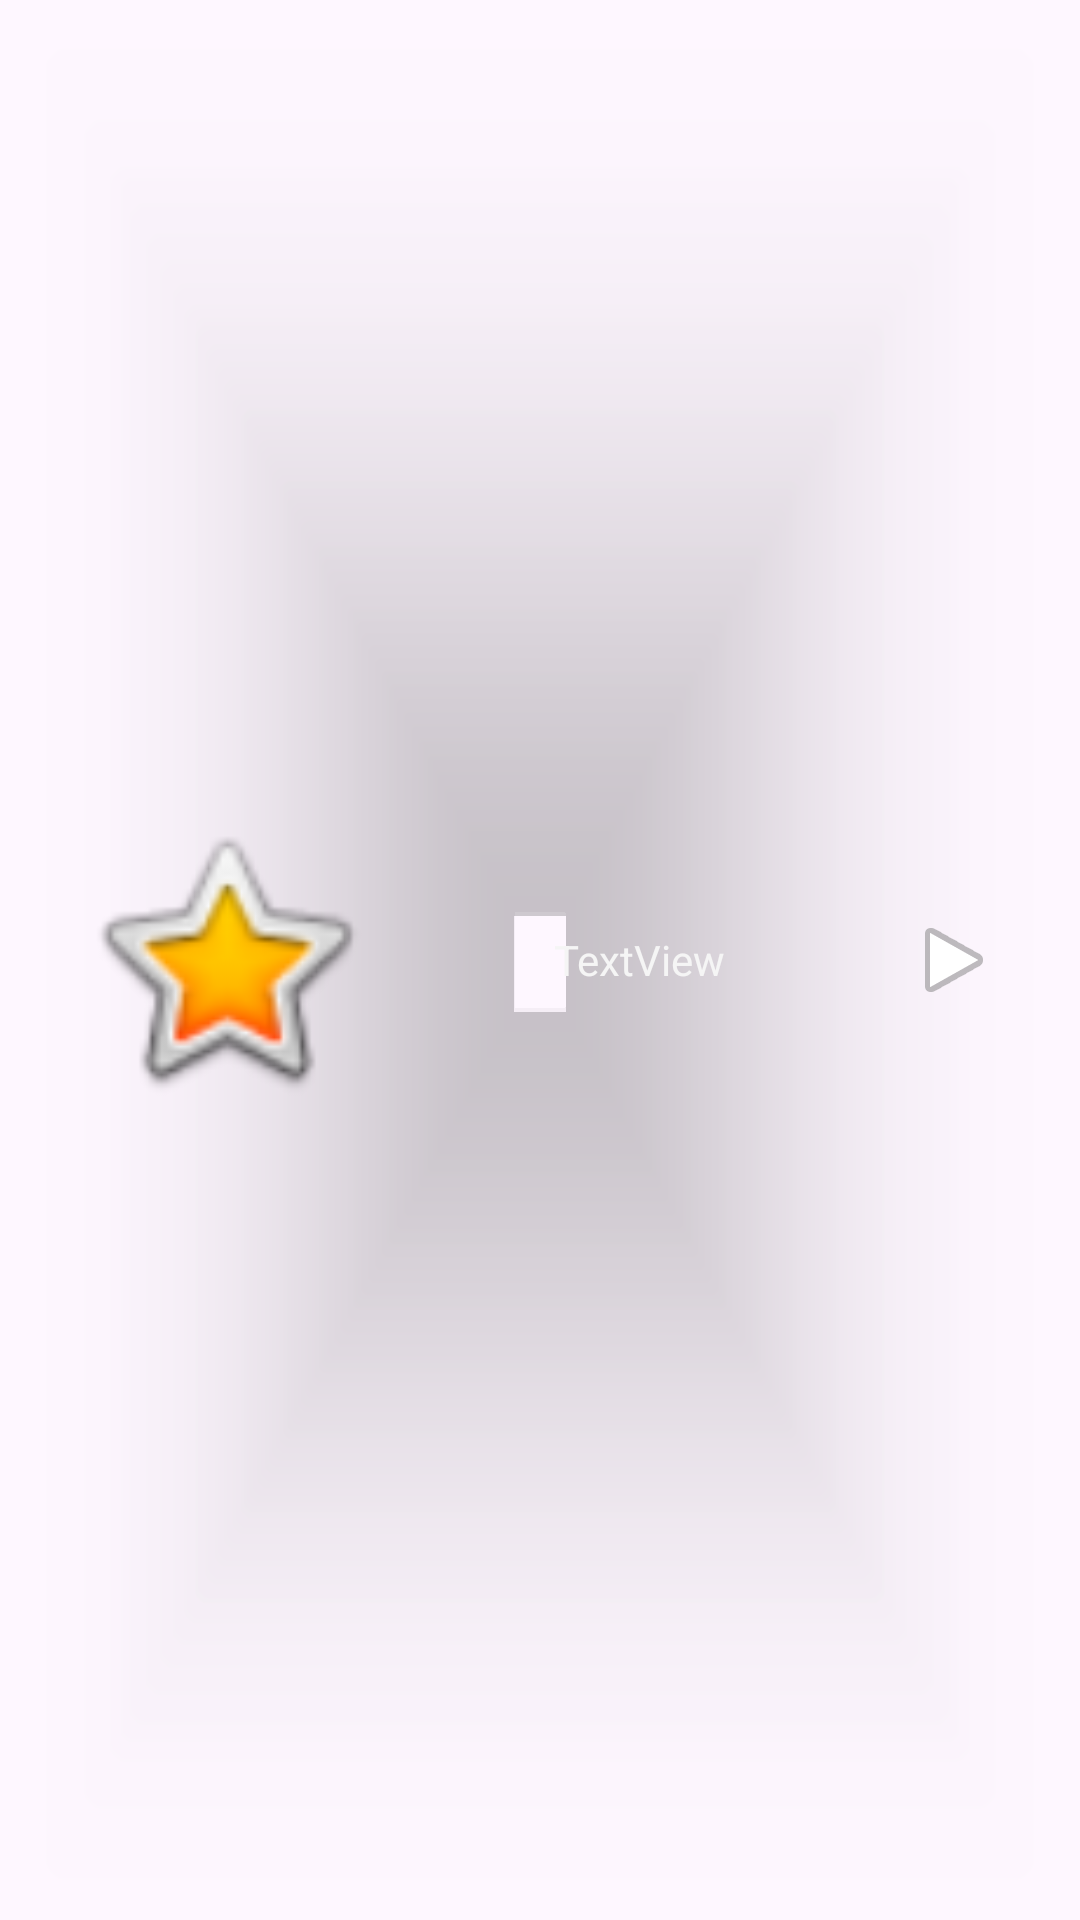

Point at icon controls on the screen. Image size 1080*1920, points as [x,y].
play: [954,960]
star on: [238,960]
